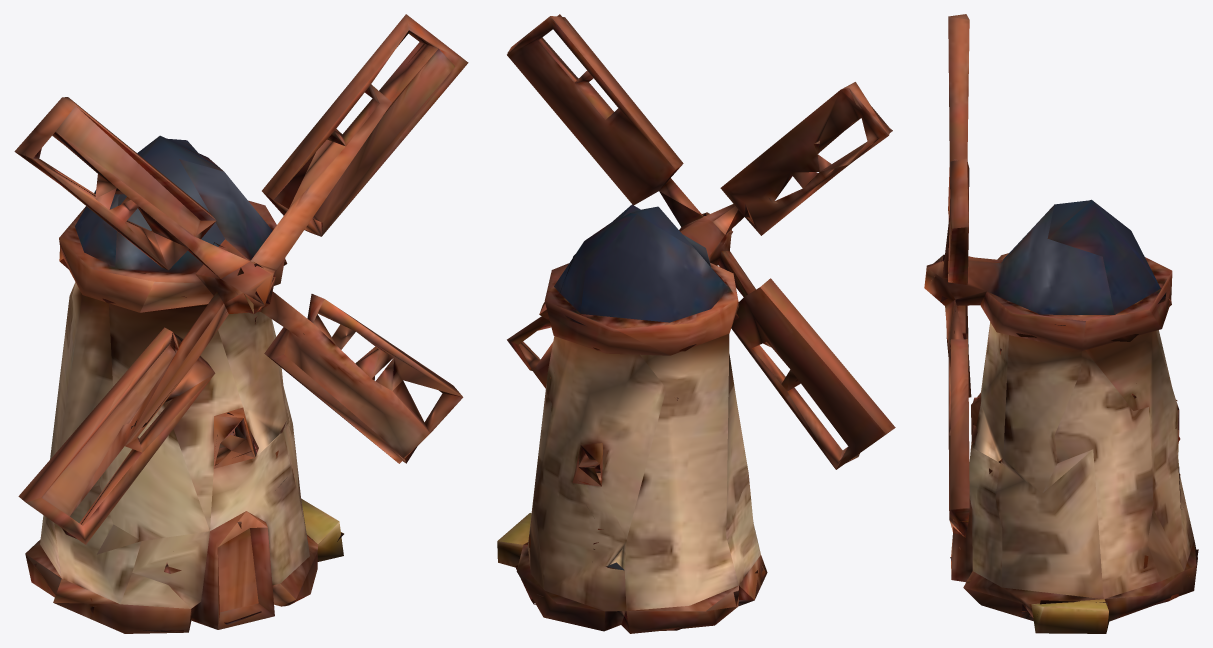
Rendered from lg-windmill.glb.
The picture shows the model from 3 angles, left to right: view 1: azimuth 30°, elevation 25°; view 2: azimuth 150°, elevation 25°; view 3: azimuth 270°, elevation 25°; orthographic projection. The views are drawn at different scales.
Parts seen in each view (by area): view 1: geometry_0; view 2: geometry_0; view 3: geometry_0.
Boxes of the visible parts, x1,y1,x2,y2 form: geometry_0: (14,14,468,633); geometry_0: (497,14,895,633); geometry_0: (924,14,1198,633).
Size of the model in its own units: 0.8203 by 1 by 0.5118.
Materials: 1 (1 with a texture image).
